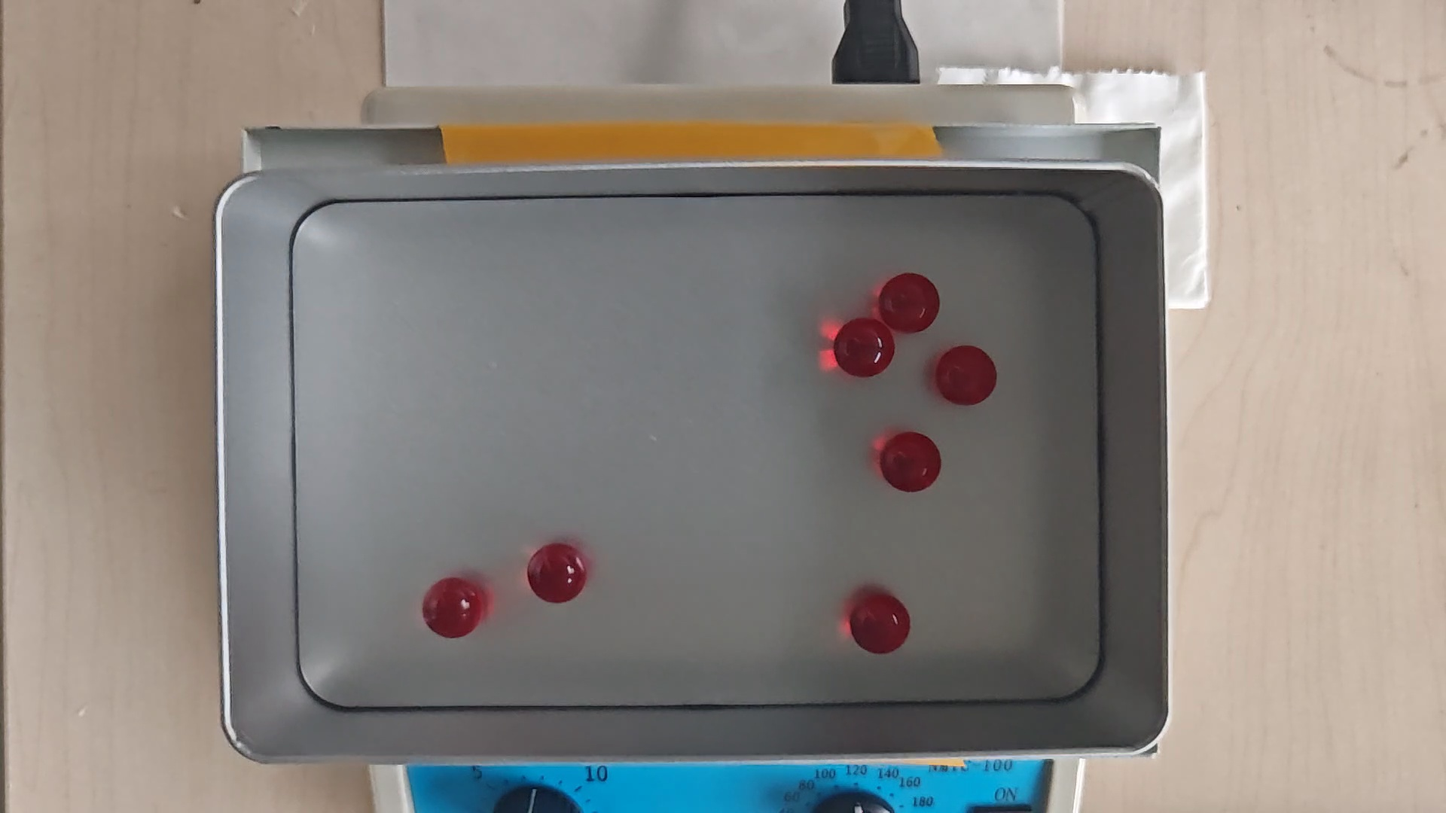ball: (935, 346, 998, 406), (850, 593, 910, 655), (527, 543, 587, 604), (882, 432, 941, 492), (423, 578, 481, 639), (836, 318, 894, 377), (882, 273, 940, 332)
container: (288, 195, 1102, 706)
